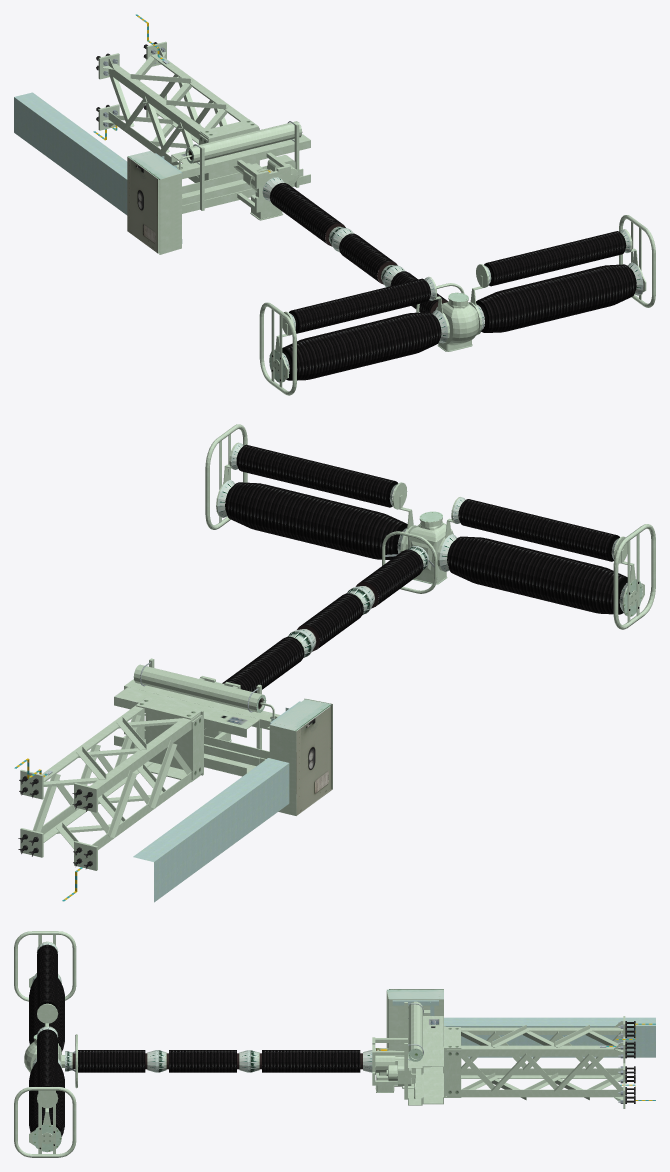
Rendered from dlq-11m00000000613098c-geode.glb.
3 renders of one model, top to bottom at view 1: azimuth 30°, elevation 25°; view 2: azimuth 150°, elevation 25°; view 3: azimuth 270°, elevation 25°, orthographic. The views are drawn at different scales.
Parts seen in each view (by area): view 1: Node; view 2: Node; view 3: Node.
Part boxes in pixels (x1,y1,x2,y2): Node: [14, 14, 655, 395]; Node: [14, 424, 655, 902]; Node: [14, 931, 655, 1157].
Size of the model in its own units: 5.52 by 1.64 by 9.53.
Materials: 13 (13 with a texture image).
